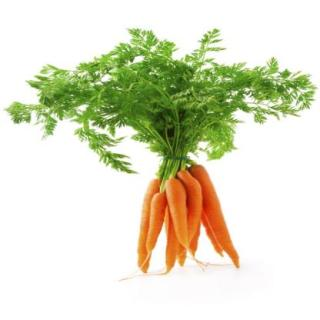Wortel: (163, 180, 192, 257), (146, 191, 169, 258)
